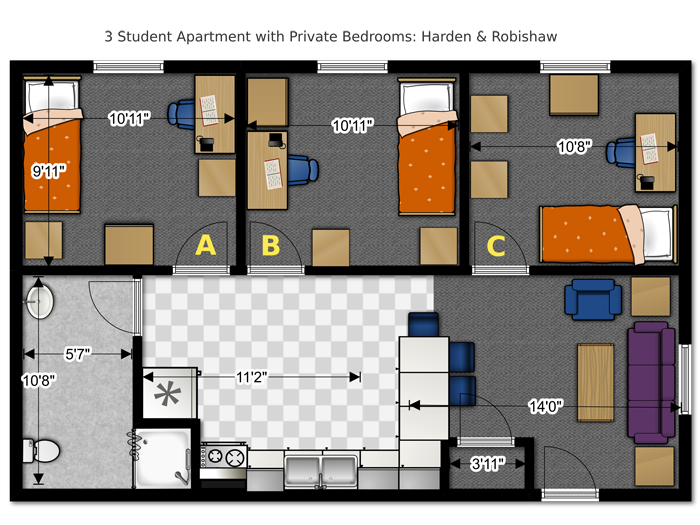door: (174, 213, 235, 259), (457, 386, 515, 434), (539, 434, 597, 482), (469, 213, 529, 259), (85, 277, 131, 336), (246, 214, 299, 259)
